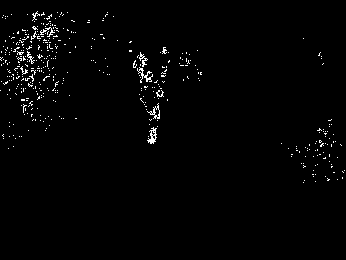person: (137, 72, 166, 146)
